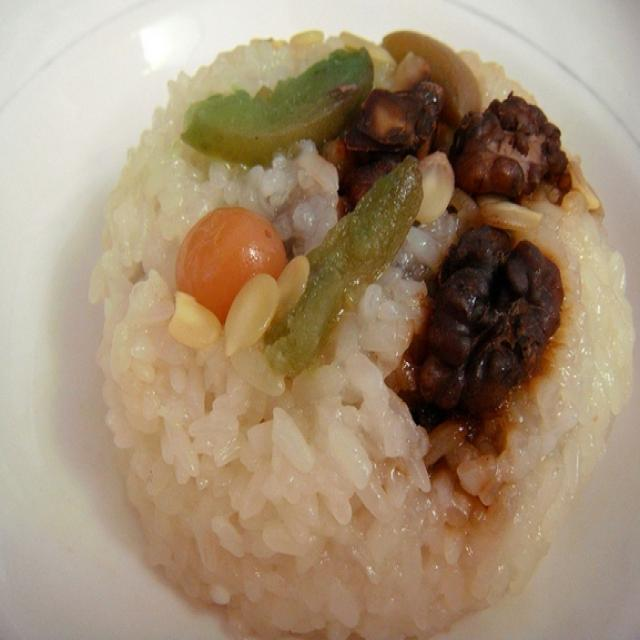米饭主食: (51, 15, 633, 628)
